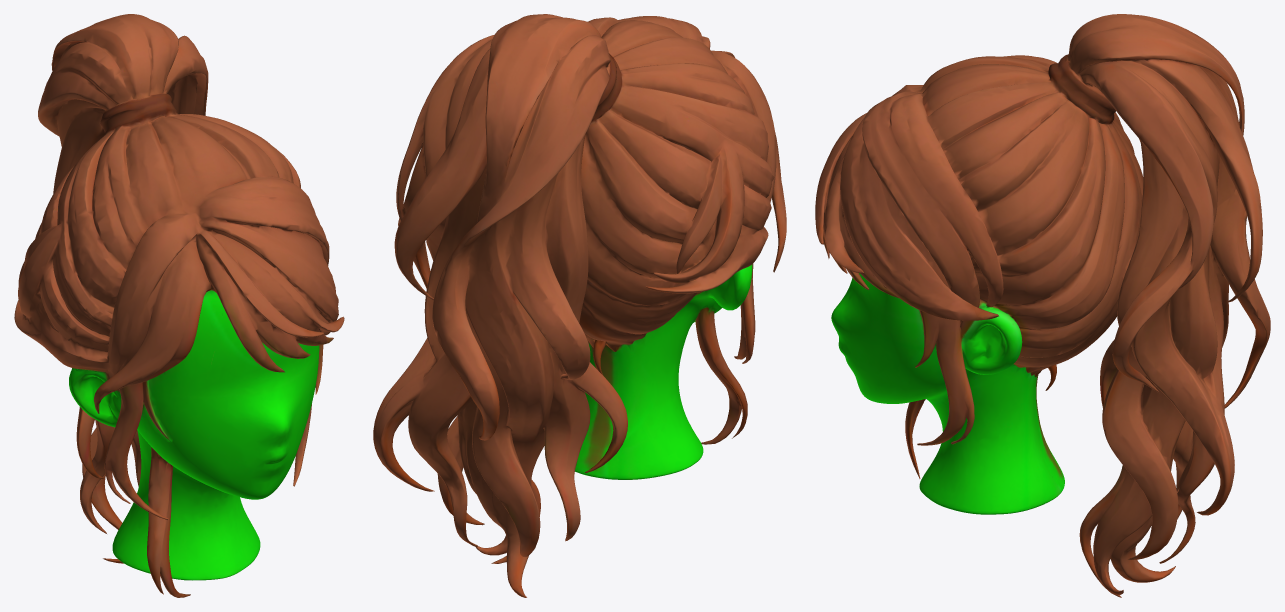
Rendered from hair-nagi-pony-v2.glb.
3 views of the same model, side by side, from view 1: azimuth 30°, elevation 25°; view 2: azimuth 150°, elevation 25°; view 3: azimuth 270°, elevation 25° (orthographic).
Visible parts, largest first — view 1: tripo_node_5f770c40-b43a-41e9-8b1b-2210edf84978; view 2: tripo_node_5f770c40-b43a-41e9-8b1b-2210edf84978; view 3: tripo_node_5f770c40-b43a-41e9-8b1b-2210edf84978.
Part boxes in pixels (<box>): tripo_node_5f770c40-b43a-41e9-8b1b-2210edf84978: <box>14,14,344,597</box>; tripo_node_5f770c40-b43a-41e9-8b1b-2210edf84978: <box>373,14,786,597</box>; tripo_node_5f770c40-b43a-41e9-8b1b-2210edf84978: <box>815,14,1270,597</box>.
Bounding box in the file's own units: 0.5284 × 0.9805 × 0.7327.
1 material, 1 textured.
